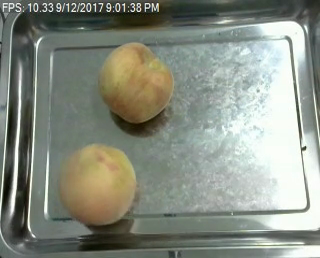Peach: (59, 143, 136, 226), (99, 41, 174, 124)
